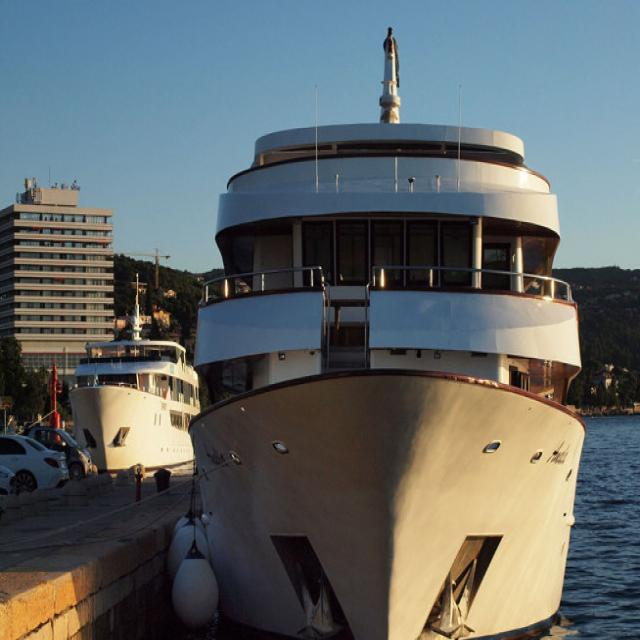cruises: (187, 13, 577, 640)
